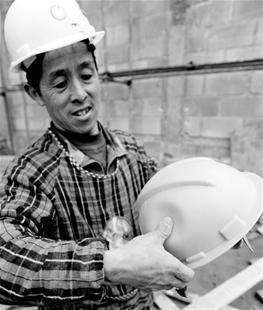helmet: (0, 0, 106, 126)
